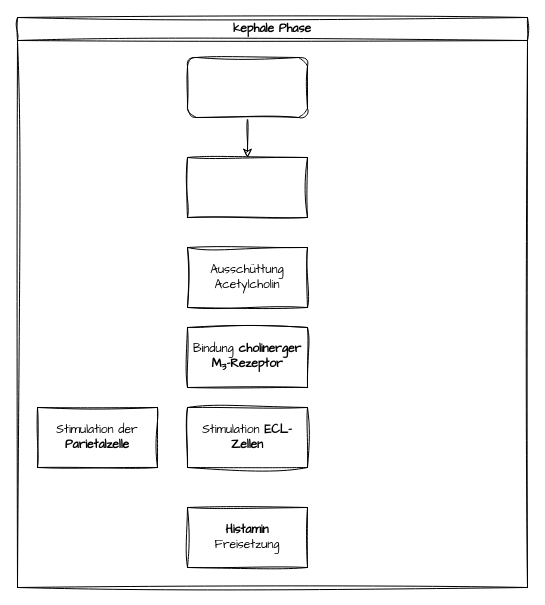
Some shapes in this 545 by 605 pixel diagram are drawn without their labels. Each missing label, with the box of its shape:
aktivierung parasympathischer Fasern: (186, 156, 308, 218)
Vorstellung/Geruch/Geschmack von Essen: (186, 56, 308, 118)
